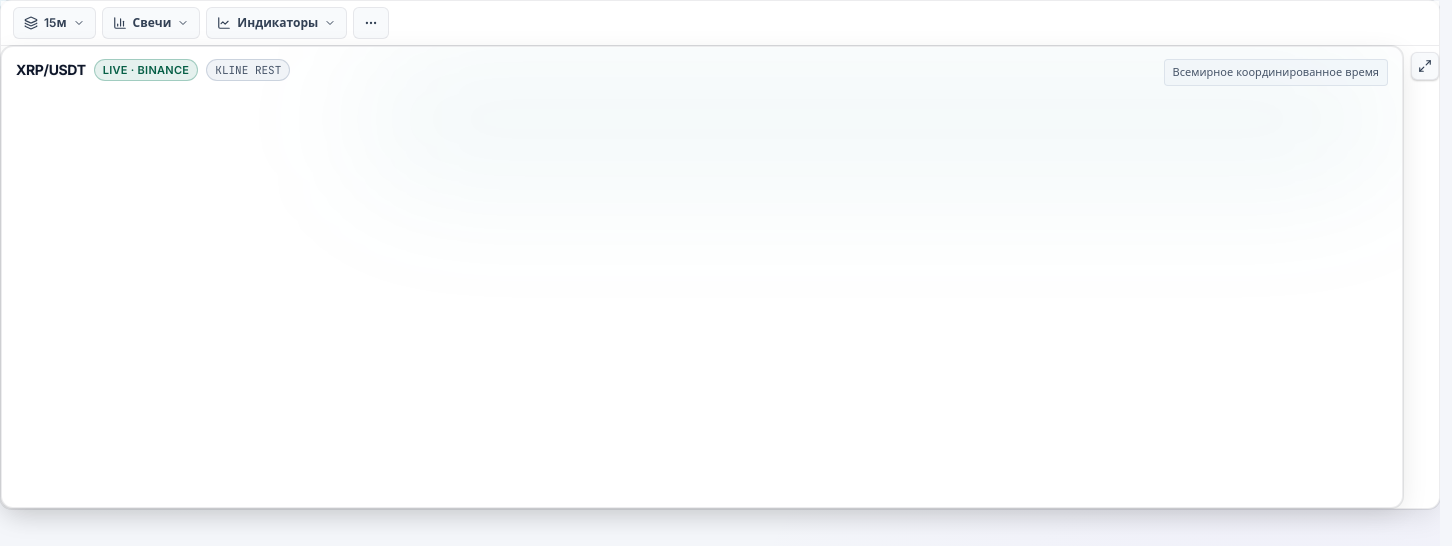
ChartTerminal indicators menu alignment › separates the heading and keeps the informational footer readable
Click the button with test id "chart-indicators-trigger".
click(277, 23)  # box [206,7,347,39]
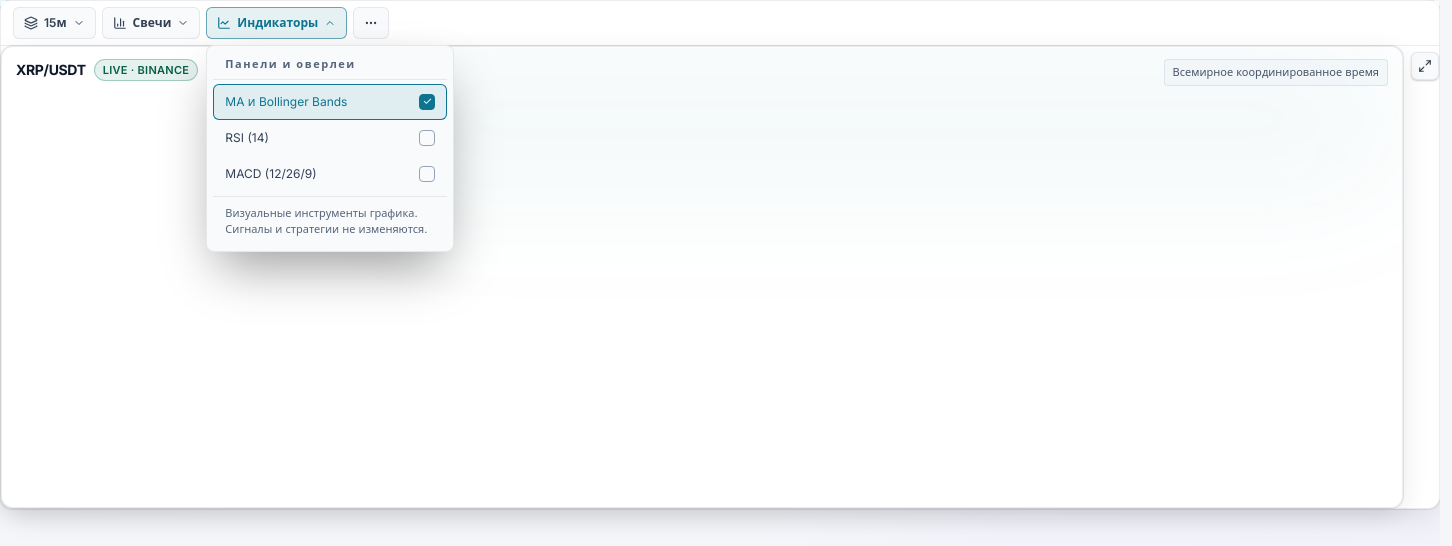
Now the text "Панели и оверлеи" is shown, box [213,52,447,80]
Now the text with test id "chart-indicators-heading" reads "Панели и оверлеи", box [225,57,356,71]
Now the text "Визуальные инструменты графика" is shown, box [225,206,428,236]
